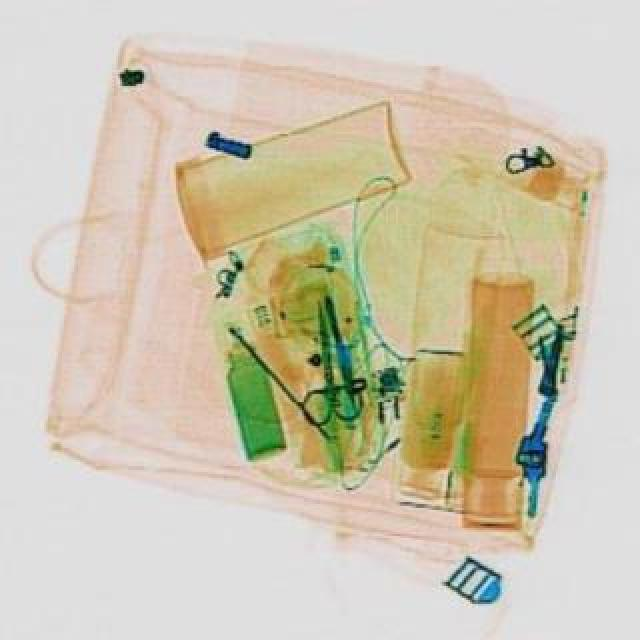pliers: (284, 294, 362, 422)
